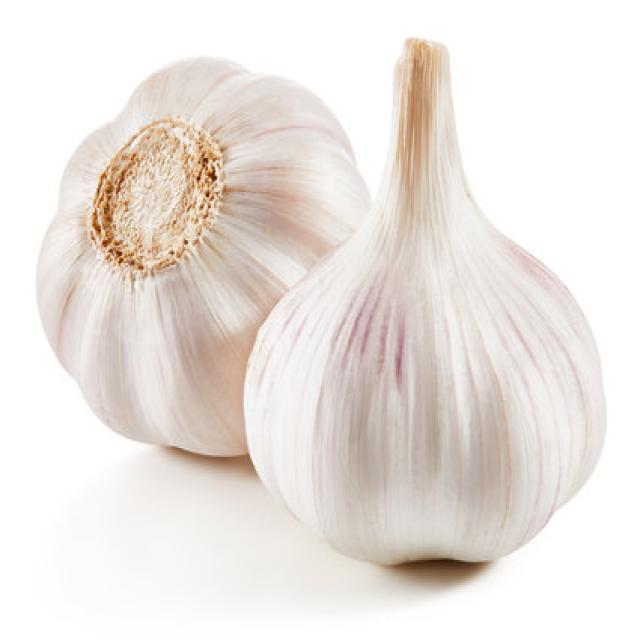Garlic: (241, 34, 607, 567), (35, 51, 372, 458)
